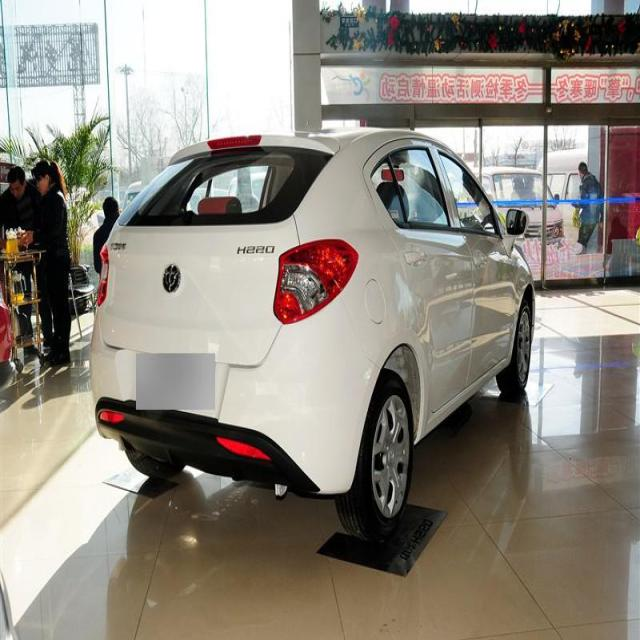back_glass: (116, 148, 336, 227)
back_left_side_light: (96, 243, 111, 308)
back_right_side_light: (272, 236, 360, 324)
front_right_side_door: (432, 141, 517, 393)
front_right_side_mirror: (502, 208, 528, 257)
rear_bumper: (87, 306, 383, 498)
wheel: (336, 368, 414, 535), (494, 301, 532, 394)
